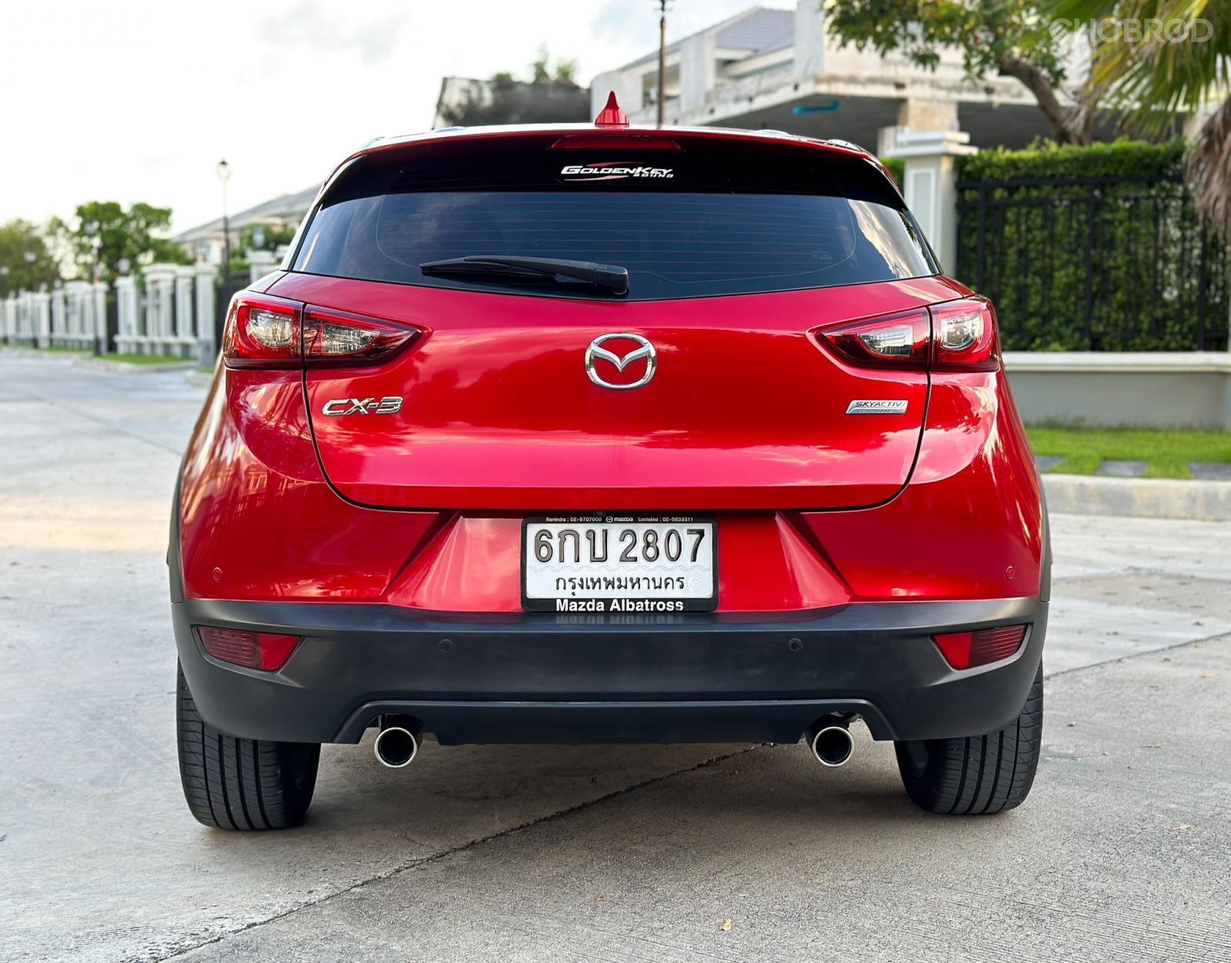license-plate: (516, 509, 726, 625)
